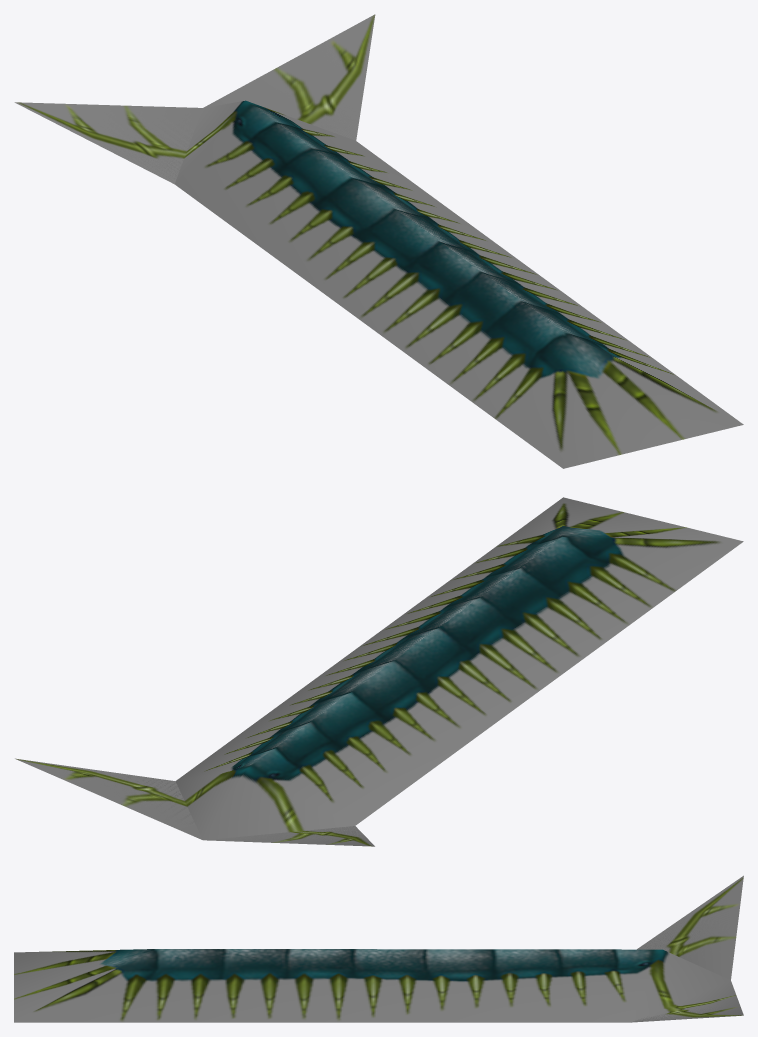
File: lowpn.fbx
3 views of the same model, one above another, from view 1: azimuth 30°, elevation 25°; view 2: azimuth 150°, elevation 25°; view 3: azimuth 270°, elevation 25° (orthographic). The views are drawn at different scales.
Parts seen in each view (by area): view 1: lowpn_Mesh_001, lowpn_Mesh_002; view 2: lowpn_Mesh_001, lowpn_Mesh_002; view 3: lowpn_Mesh_001, lowpn_Mesh_002.
Boxes of the visible parts, x1,y1,x2,y2 form: lowpn_Mesh_001: (22, 16, 743, 468); lowpn_Mesh_002: (14, 14, 375, 184); lowpn_Mesh_001: (18, 497, 743, 844); lowpn_Mesh_002: (15, 758, 374, 846); lowpn_Mesh_001: (14, 882, 742, 1022); lowpn_Mesh_002: (631, 875, 743, 1022).
Bounding box in the file's own units: 23.43 × 3.27 × 51.52.
